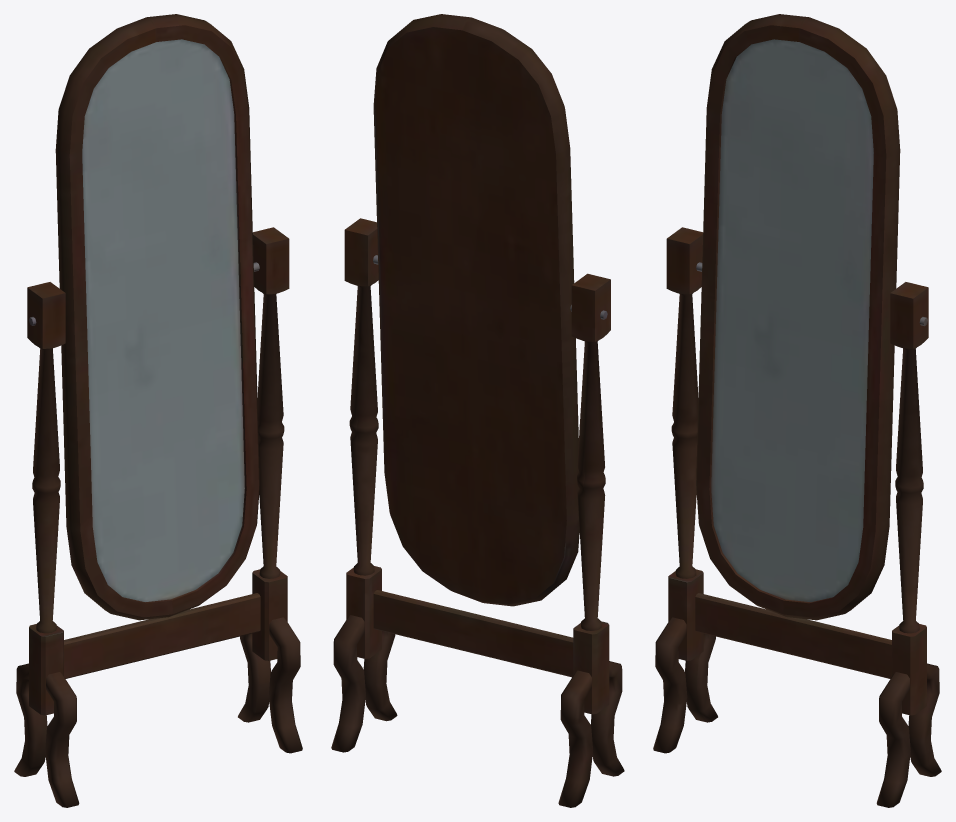
Rendered from SM_Pier-Mirror_a0ce28.glb.
The picture shows the model from 3 angles, left to right: view 1: azimuth 30°, elevation 25°; view 2: azimuth 150°, elevation 25°; view 3: azimuth 330°, elevation 25°; orthographic projection.
Bounding box in the file's own units: 0.607 × 1.68 × 0.2169.
1 material, 1 textured.
